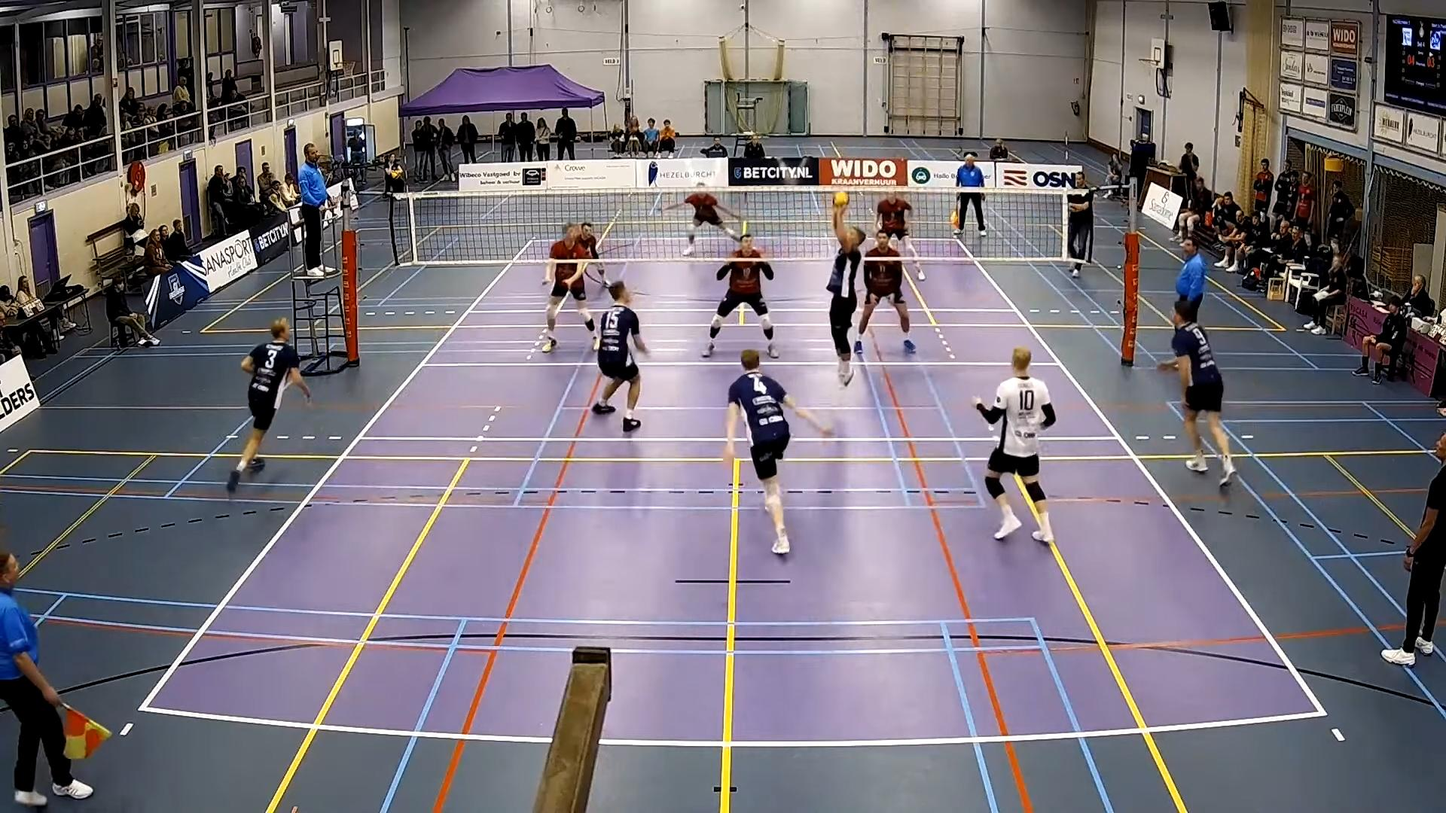alzata: (813, 201, 875, 387)
